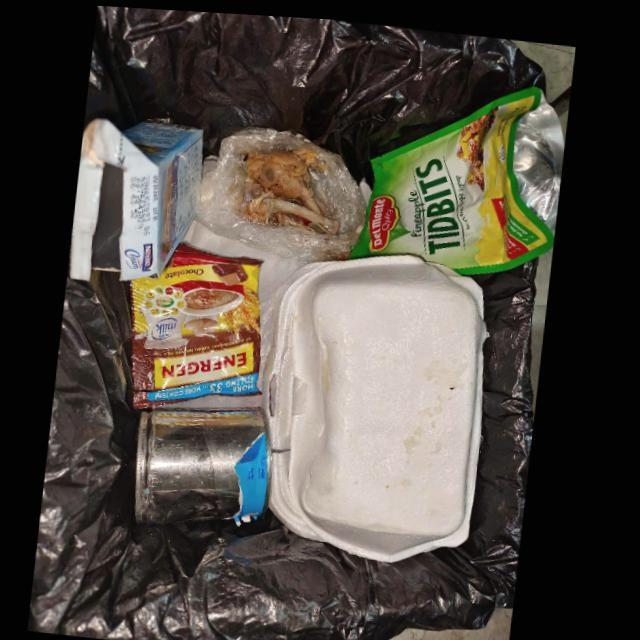aluminum: (140, 407, 274, 523)
food_wrapper: (353, 81, 566, 271)
left_over_food: (242, 146, 342, 230)
plastic_bag: (196, 124, 369, 260)
plastic_sachet: (132, 241, 266, 408)
